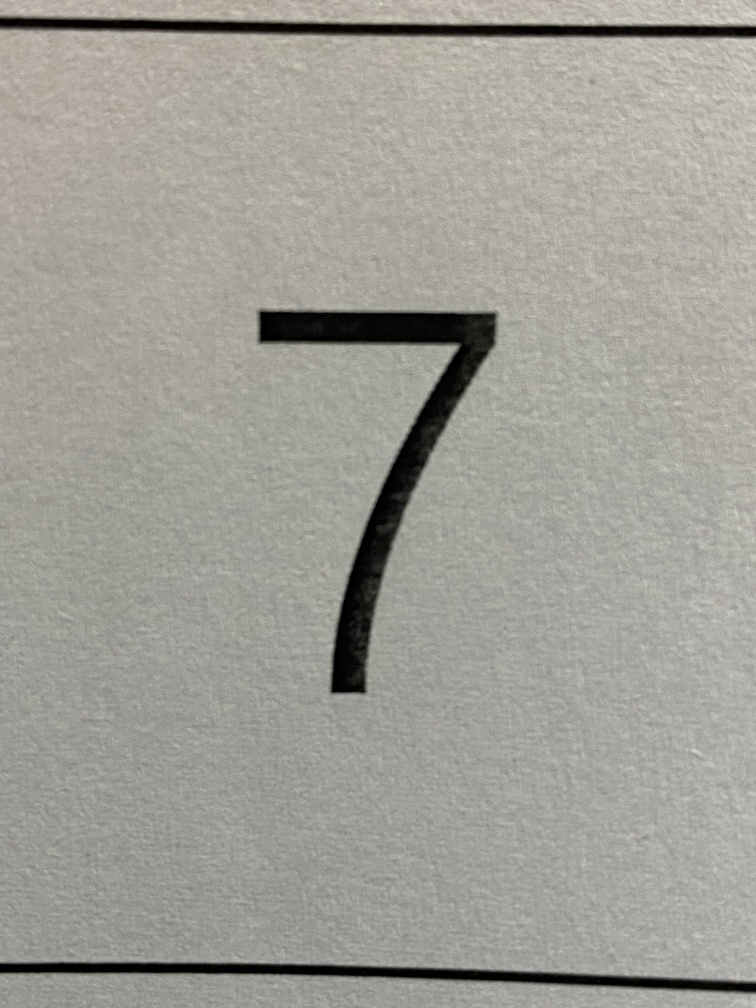seven: (183, 216, 575, 763)
